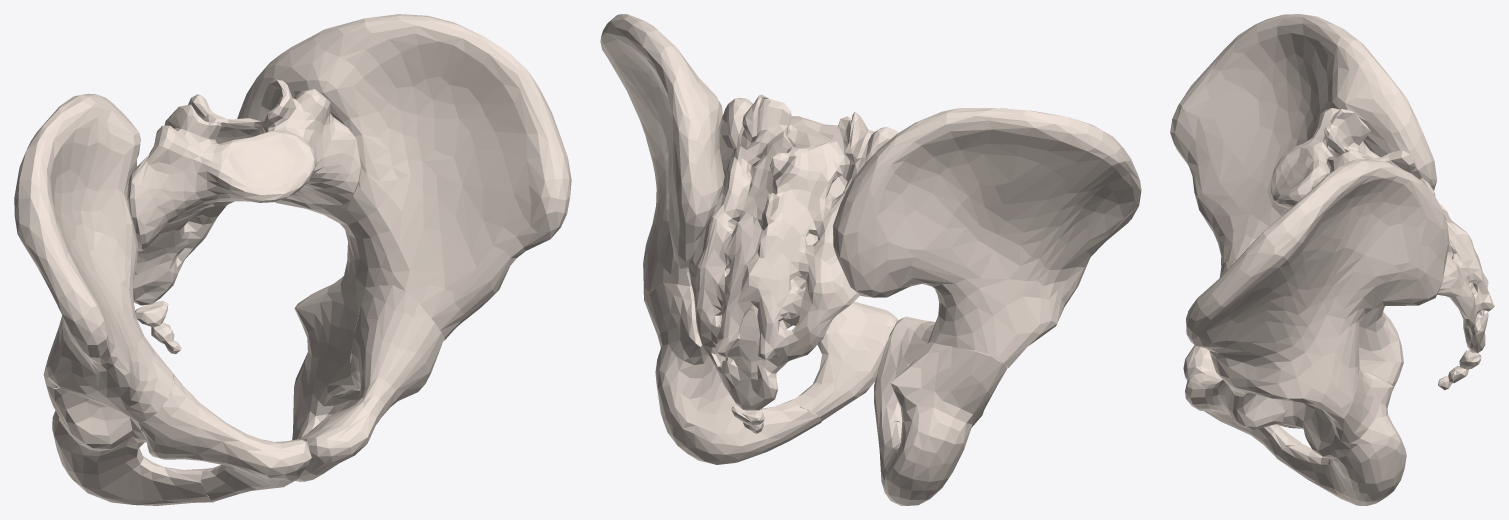
The model's file is VH_M_Pelvis_0.2.glb.
The picture shows the model from 3 angles, left to right: view 1: azimuth 30°, elevation 25°; view 2: azimuth 150°, elevation 25°; view 3: azimuth 270°, elevation 25°; orthographic projection. The views are drawn at different scales.
Parts seen in each view (by area): view 1: VH_M_ilium_compact_bone_L, VH_M_ilium_compact_bone_R, VH_M_sacrum, VH_M_pubis_compact_bone_L, VH_M_ischium_compact_bone_R, VH_M_pubis_compact_bone_R, VH_M_ischium_compact_bone_L, VH_M_coccyx; view 2: VH_M_ilium_compact_bone_R, VH_M_sacrum, VH_M_ilium_compact_bone_L, VH_M_ischium_compact_bone_L, VH_M_ischium_compact_bone_R, VH_M_pubis_compact_bone_L, VH_M_pubis_compact_bone_R; view 3: VH_M_ilium_compact_bone_L, VH_M_ilium_compact_bone_R, VH_M_ischium_compact_bone_L, VH_M_sacrum, VH_M_pubis_compact_bone_L, VH_M_ischium_compact_bone_R, VH_M_pubis_compact_bone_R, VH_M_coccyx.
Boxes of the visible parts, <box> form: VH_M_ilium_compact_bone_L: <box>237,14,571,340</box>; VH_M_ilium_compact_bone_R: <box>14,93,174,422</box>; VH_M_sacrum: <box>127,79,360,305</box>; VH_M_pubis_compact_bone_L: <box>295,285,444,481</box>; VH_M_ischium_compact_bone_R: <box>46,386,214,505</box>; VH_M_pubis_compact_bone_R: <box>138,365,311,501</box>; VH_M_ischium_compact_bone_L: <box>292,274,366,482</box>; VH_M_coccyx: <box>135,300,181,353</box>; VH_M_ilium_compact_bone_R: <box>833,108,1141,367</box>; VH_M_sacrum: <box>688,94,898,410</box>; VH_M_ilium_compact_bone_L: <box>600,14,724,300</box>; VH_M_ischium_compact_bone_L: <box>644,268,821,464</box>; VH_M_ischium_compact_bone_R: <box>878,342,1007,505</box>; VH_M_pubis_compact_bone_L: <box>792,287,897,421</box>; VH_M_pubis_compact_bone_R: <box>874,316,935,434</box>; VH_M_ilium_compact_bone_L: <box>1186,159,1449,421</box>; VH_M_ilium_compact_bone_R: <box>1170,14,1436,265</box>; VH_M_ischium_compact_bone_L: <box>1276,367,1406,505</box>; VH_M_sacrum: <box>1271,108,1494,352</box>; VH_M_pubis_compact_bone_L: <box>1185,373,1300,457</box>; VH_M_ischium_compact_bone_R: <box>1288,306,1403,428</box>; VH_M_pubis_compact_bone_R: <box>1183,261,1290,427</box>; VH_M_coccyx: <box>1438,350,1481,390</box>.
Size of the model in its own units: 0.2838 by 0.2187 by 0.1736.
